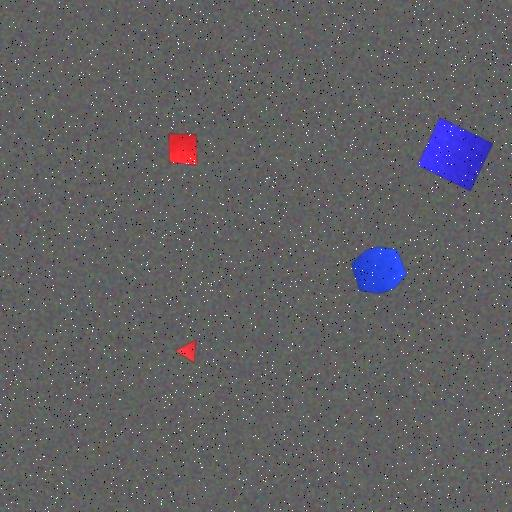BLUE_SQUARE: (417, 117, 494, 192)
RED_SQUARE: (168, 132, 198, 166)
